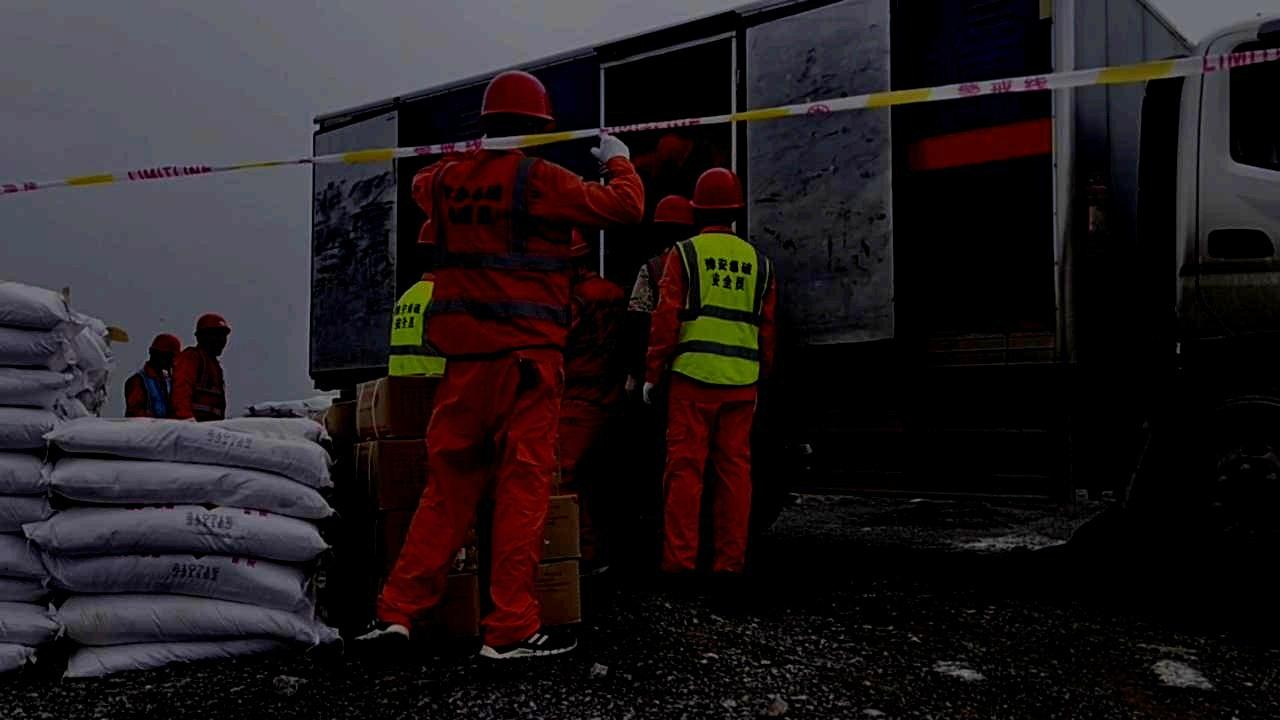helmet: (480, 69, 554, 140), (688, 167, 744, 230), (653, 194, 693, 243), (193, 311, 232, 357), (147, 332, 182, 372), (417, 219, 434, 269)
